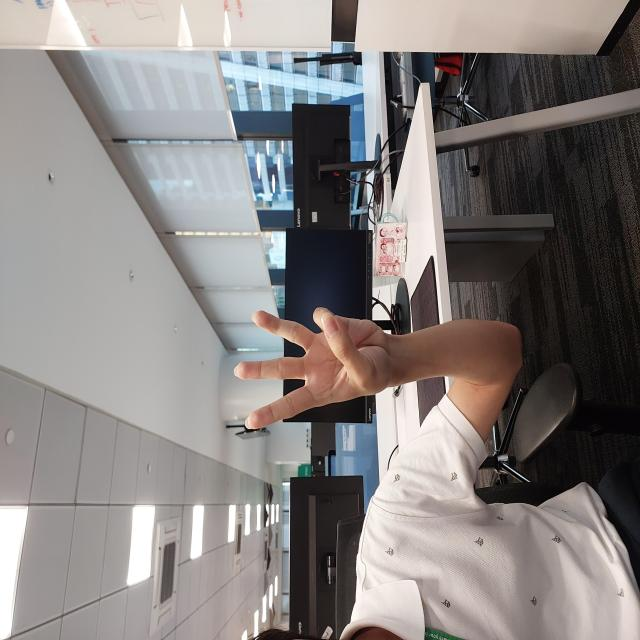W: (203, 229, 337, 400)
